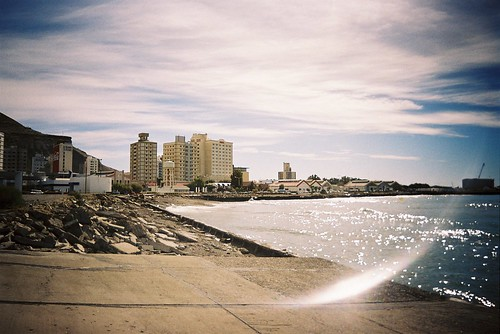building: (153, 132, 241, 183), (127, 133, 164, 191)
rocks: (1, 191, 202, 258)
sea: (193, 198, 500, 299)
sky: (16, 1, 500, 159)
